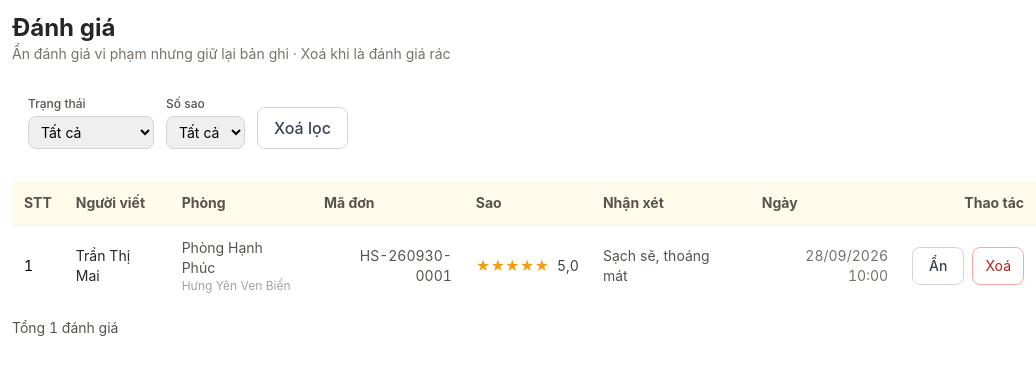
AdminReviews - thao tac › BamGiuLai_TacVuongTacKhongXoa
The image size is (1036, 369).
Click the button "Xoá".
click(998, 266)  # box x1=972 y1=247 x2=1024 y2=285
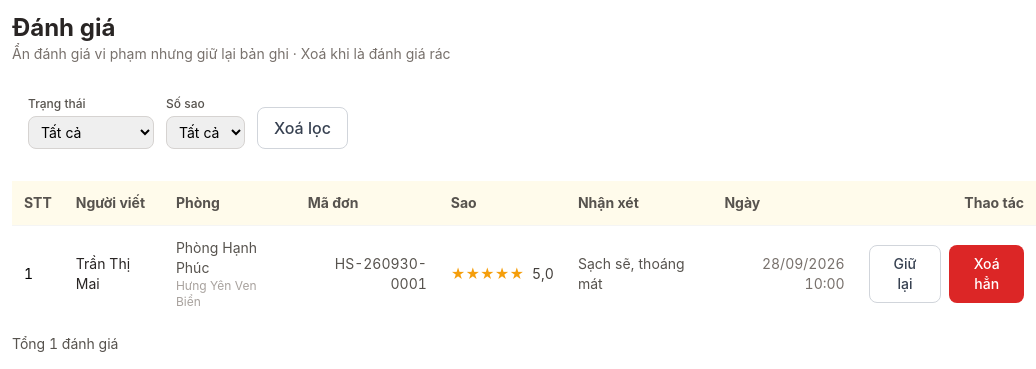
Click the button "Giữ lại".
click(905, 274)  # box x1=869 y1=245 x2=941 y2=303
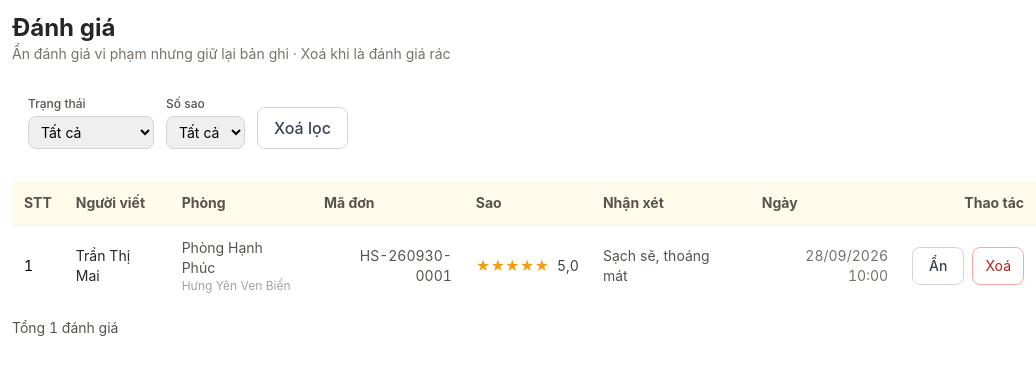
Result: the button "Xoá hẳn" is gone
